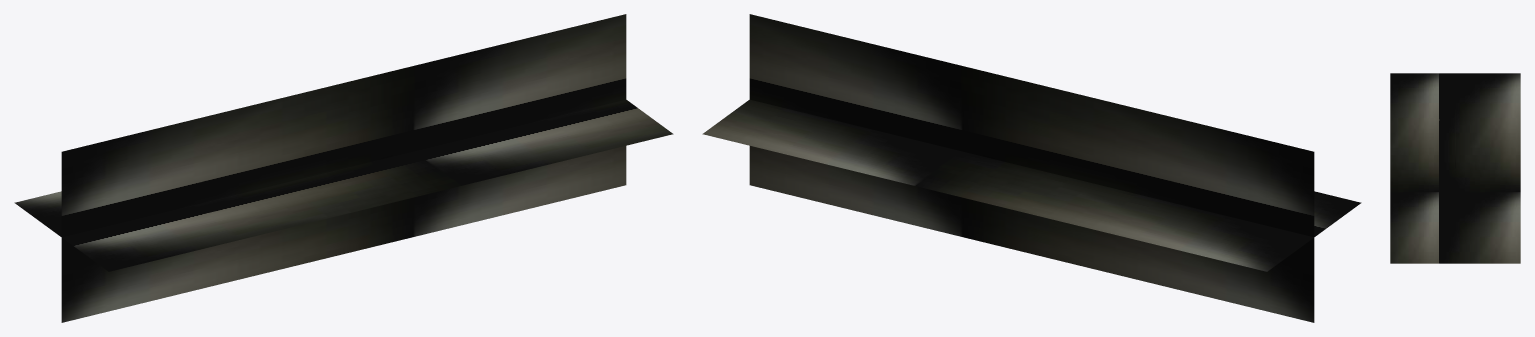
Rendered from actor.obj.
The picture shows the model from 3 angles, left to right: view 1: azimuth 30°, elevation 25°; view 2: azimuth 150°, elevation 25°; view 3: azimuth 270°, elevation 25°; orthographic projection. The views are drawn at different scales.
Parts seen in each view (by area): view 1: actor; view 2: actor; view 3: actor.
Boxes of the visible parts, bbox=[...] form: actor: bbox=[14, 14, 673, 322]; actor: bbox=[702, 14, 1361, 322]; actor: bbox=[1390, 73, 1520, 263].
Size of the model in its own units: 186 by 53.87 by 53.87.
1 material, 1 textured.
